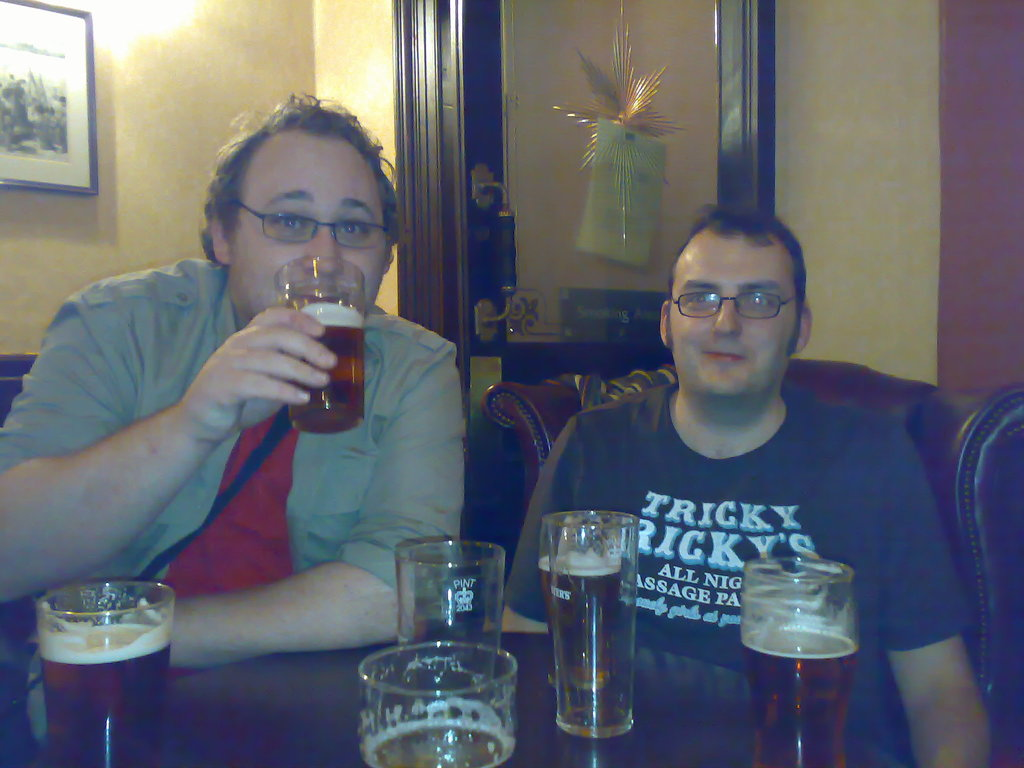Beer: (744, 553, 861, 767), (38, 582, 172, 767), (358, 641, 518, 767), (275, 254, 366, 435), (539, 509, 627, 695)
